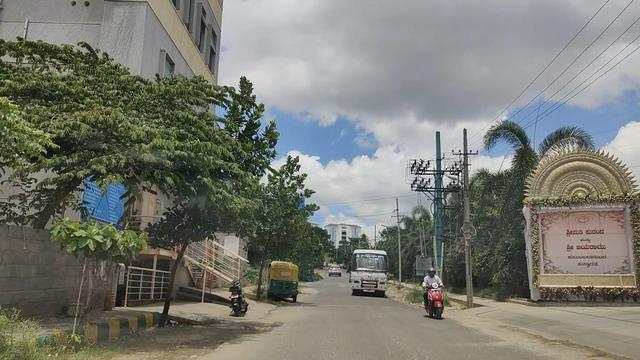HMV: (346, 244, 392, 305)
RoadDamages: (200, 320, 266, 340)
